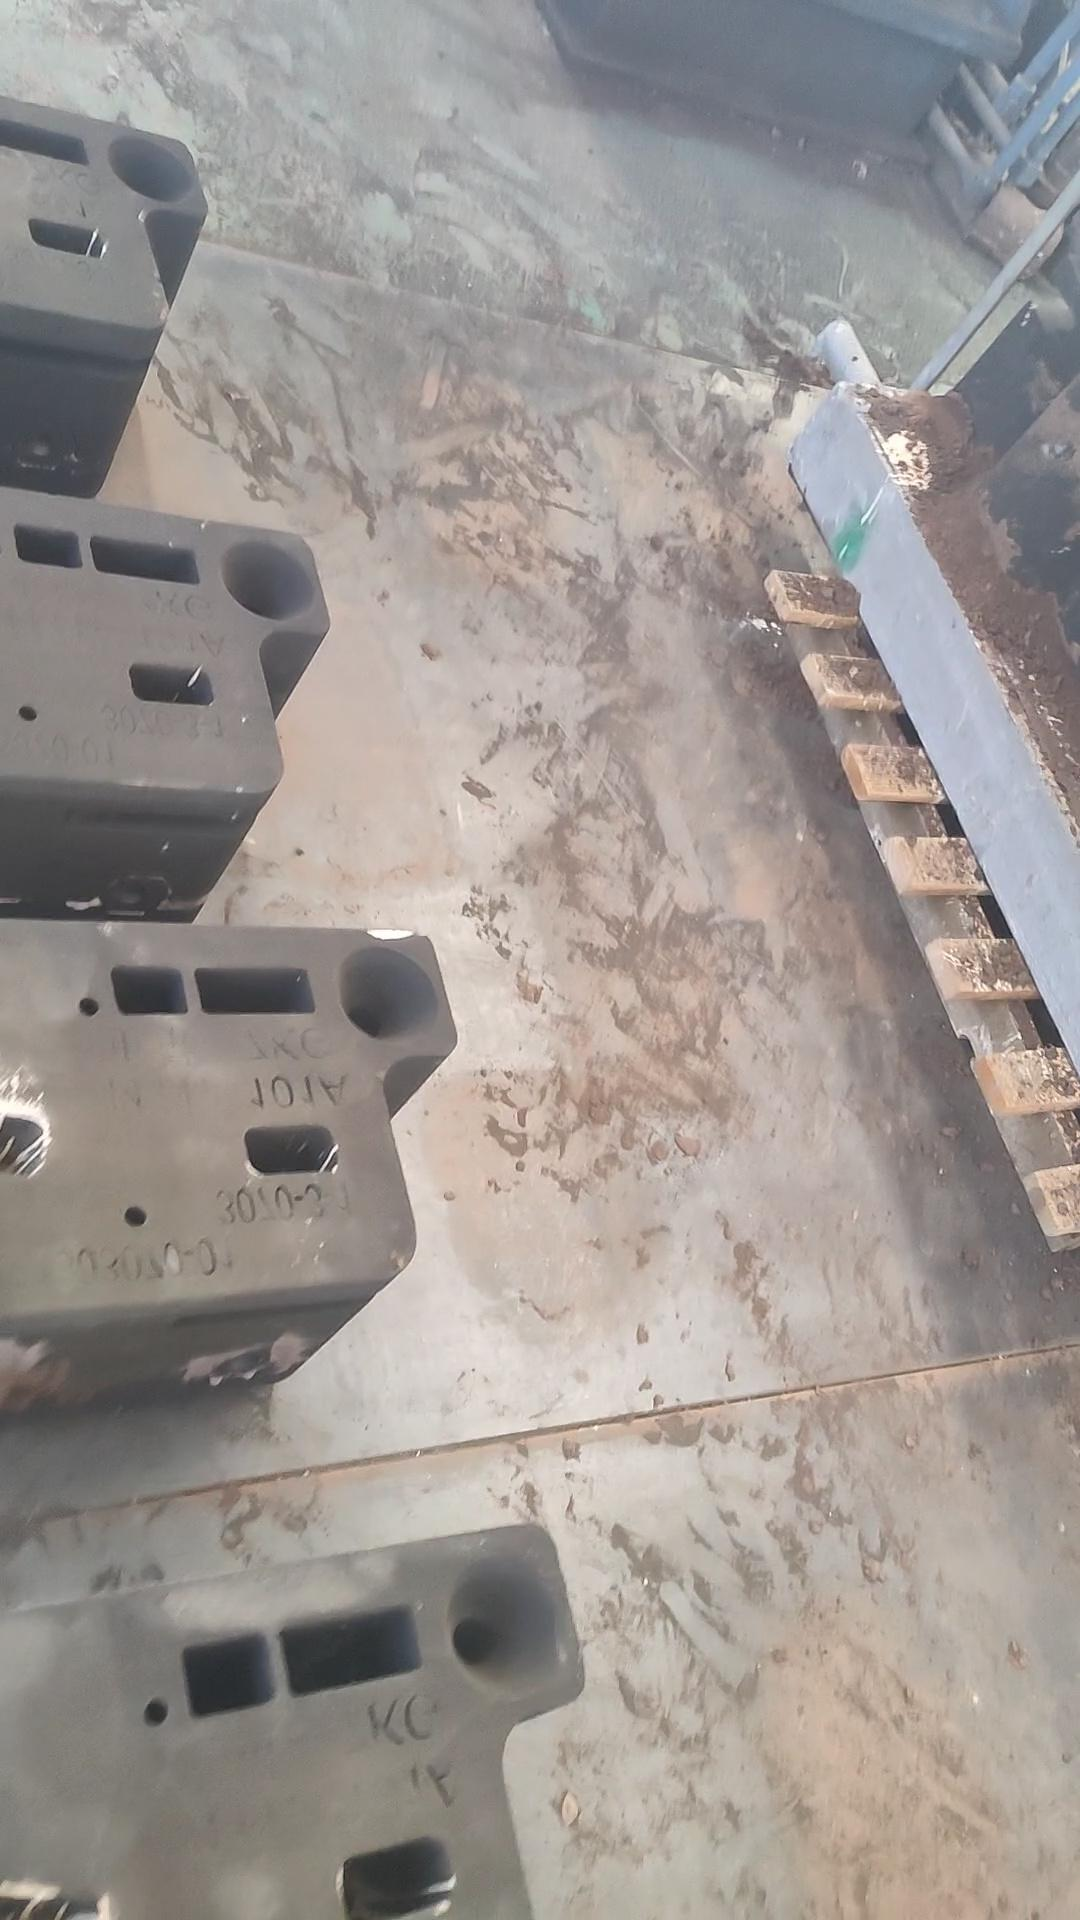pouring hole: (446, 1557, 564, 1695), (334, 947, 438, 1040), (218, 541, 313, 620), (108, 135, 193, 200)
